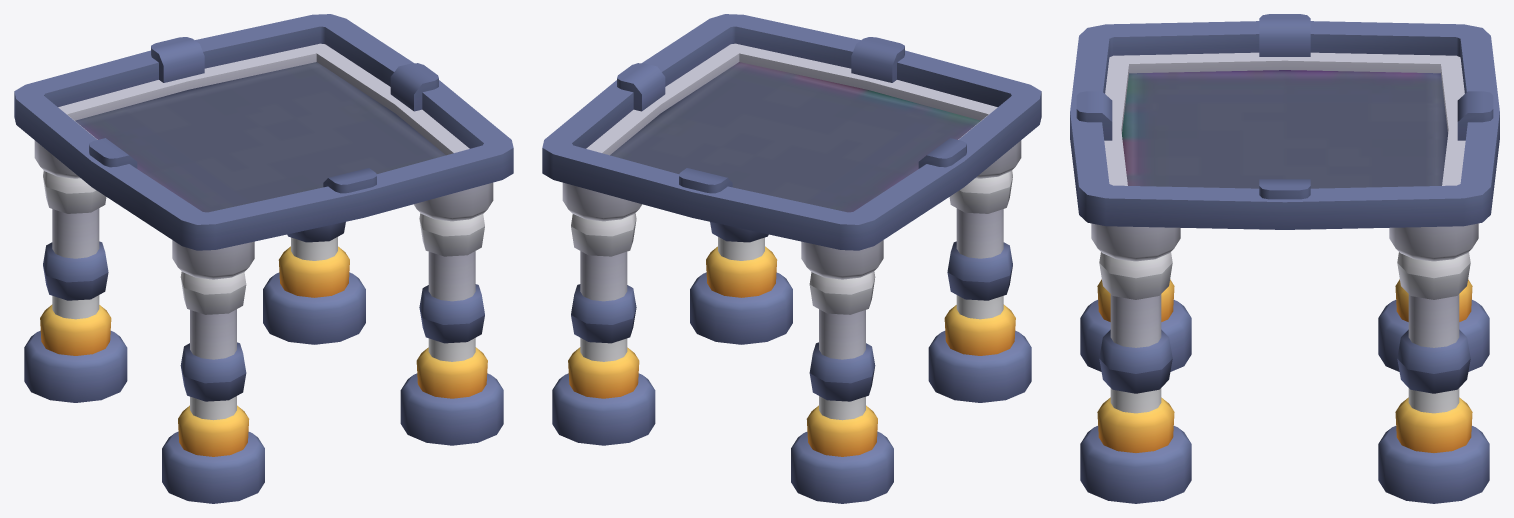
Rendered from template-floor-layer-raised.glb.
The picture shows the model from 3 angles, left to right: view 1: azimuth 30°, elevation 25°; view 2: azimuth 150°, elevation 25°; view 3: azimuth 270°, elevation 25°; orthographic projection. The views are drawn at different scales.
Parts seen in each view (by area): view 1: template-floor-layer-raised; view 2: template-floor-layer-raised; view 3: template-floor-layer-raised.
Boxes of the visible parts, x1,y1,x2,y2 form: template-floor-layer-raised: (14,14,513,503); template-floor-layer-raised: (542,14,1041,503); template-floor-layer-raised: (1070,14,1499,503).
Bounding box in the file's own units: 4.2 × 3.4 × 4.2.
Materials: 1 (1 with a texture image).
